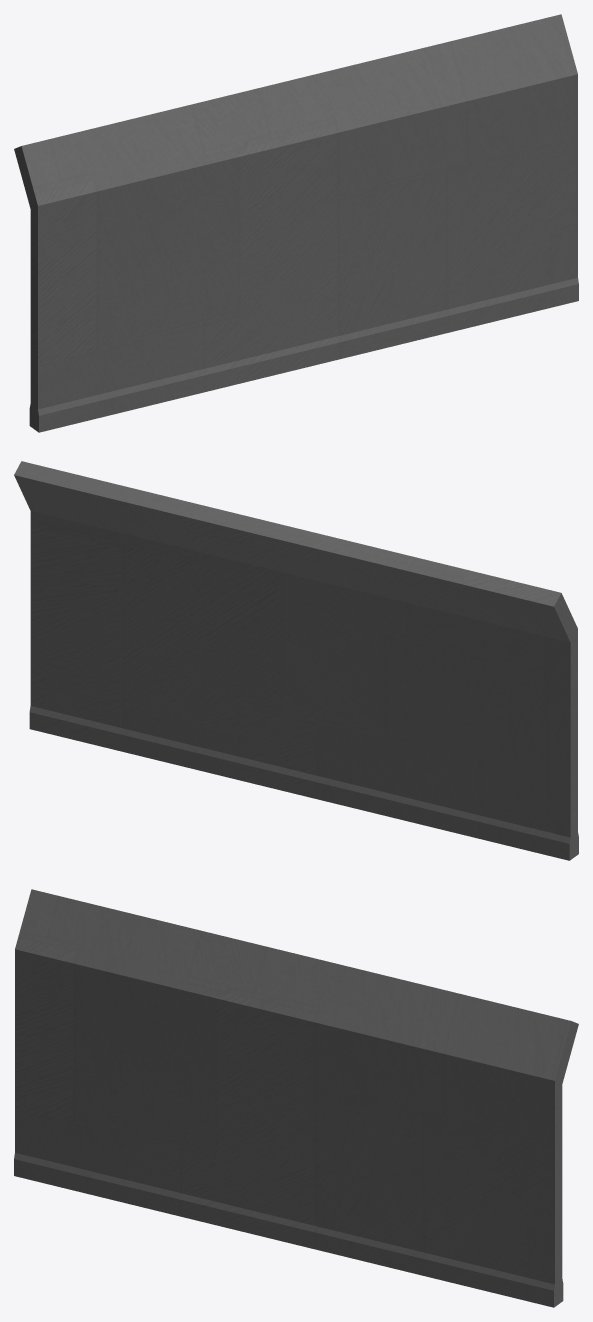
The model's file is city_wall_0411.FBX.
3 renders of one model, top to bottom at view 1: azimuth 30°, elevation 25°; view 2: azimuth 150°, elevation 25°; view 3: azimuth 330°, elevation 25°, orthographic.
Parts seen in each view (by area): view 1: Box001; view 2: Box001; view 3: Box001.
Boxes of the visible parts, box(x1,y1,x2,y2) form: Box001: box(14, 14, 578, 432); Box001: box(14, 461, 578, 860); Box001: box(14, 889, 578, 1307).
Bounding box in the file's own units: 1000 × 485 × 80.
1 material, 1 textured.
